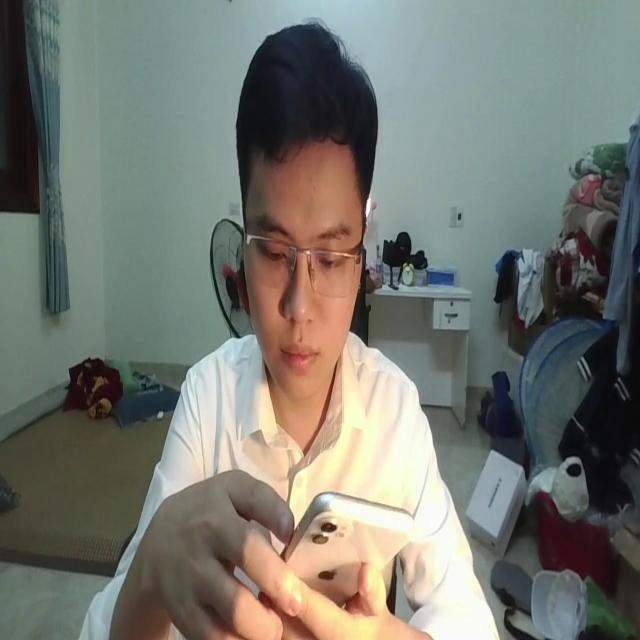phone: (269, 478, 410, 616)
student: (73, 22, 501, 640)
